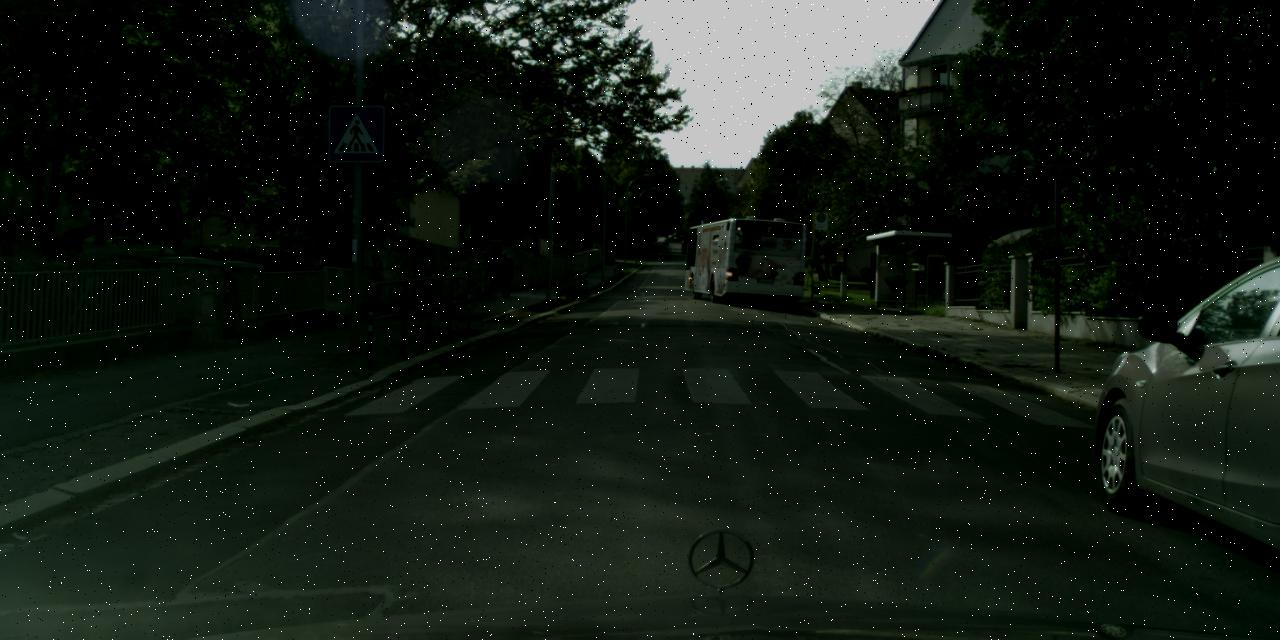ped: (496, 251, 516, 296)
